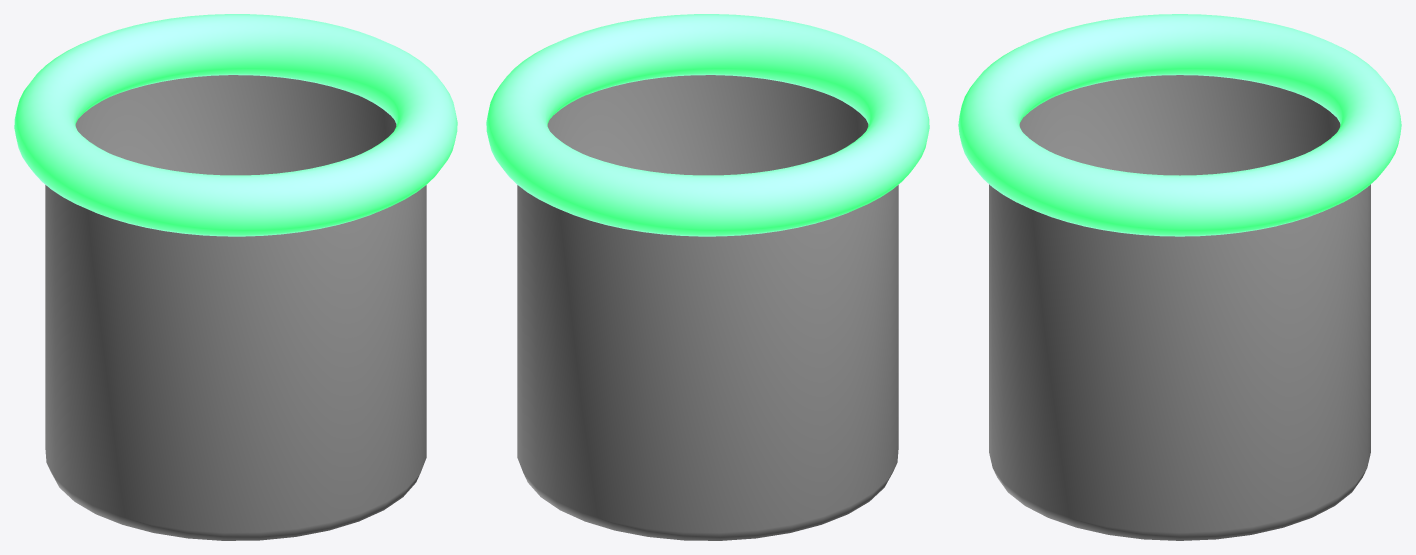
Rendered from basket 1.fbx.
3 views of the same model, side by side, from view 1: azimuth 30°, elevation 25°; view 2: azimuth 150°, elevation 25°; view 3: azimuth 270°, elevation 25° (orthographic).
Parts seen in each view (by area): view 1: Basket2, Basket1; view 2: Basket2, Basket1; view 3: Basket2, Basket1.
Part boxes in pixels (left/top/right/bottom): Basket2: left=45, top=75, right=426, bottom=540; Basket1: left=14, top=14, right=457, bottom=236; Basket2: left=517, top=75, right=898, bottom=540; Basket1: left=486, top=14, right=929, bottom=236; Basket2: left=989, top=75, right=1370, bottom=540; Basket1: left=958, top=14, right=1401, bottom=236.
Size of the model in its own units: 2.32 by 2.13 by 2.32.
